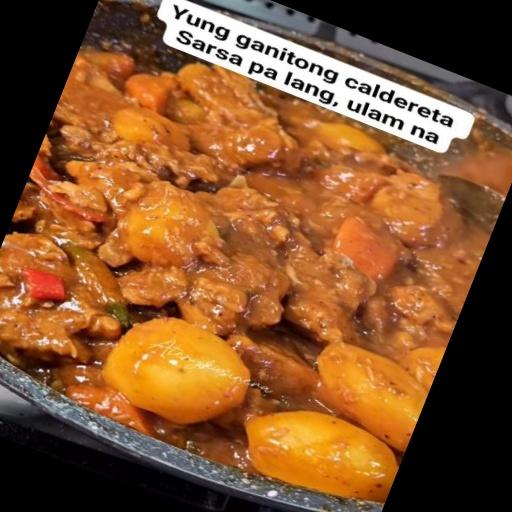pork caldereta: (0, 49, 499, 508)
